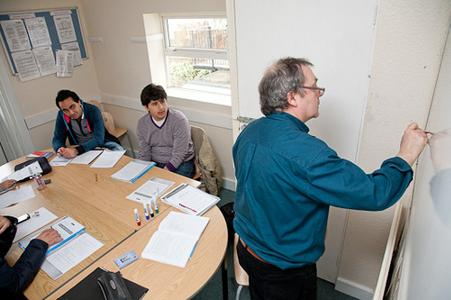person: (232, 59, 428, 299)
